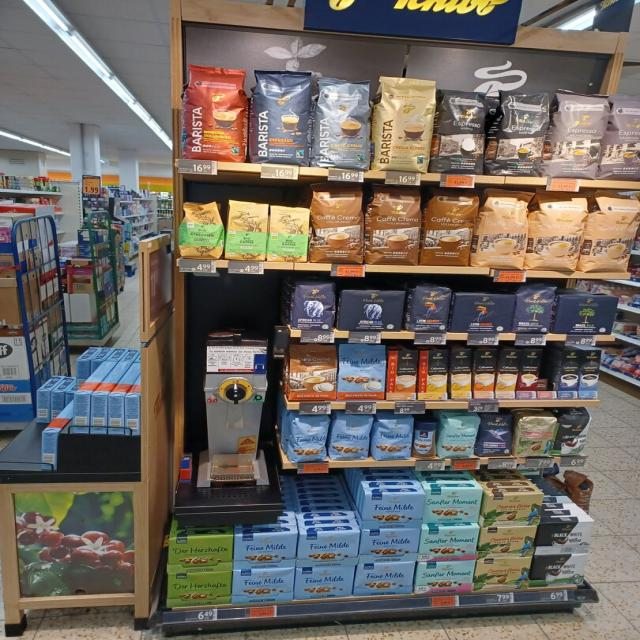AB Bohne: (292, 281, 336, 332)
AB Gemahlen: (340, 288, 408, 332)
Athiopien Bohne: (180, 201, 223, 259)
Athiopien Gemahlen: (225, 198, 268, 260), (270, 204, 310, 262)
BM Bohne: (516, 284, 556, 334)
BM Gemahlen: (556, 293, 620, 335)
BW Bohne: (554, 412, 594, 457)
BW Gemahlen: (536, 521, 596, 554), (531, 554, 589, 586)
Barista CB: (374, 75, 438, 171)
Barista CC: (316, 75, 371, 170)
Barista Espresso: (252, 69, 312, 165)
Barista Kolumbien: (186, 62, 248, 162)
C Fino Bohne: (480, 412, 514, 457)
CC Mild: (530, 185, 588, 271), (476, 186, 530, 270), (590, 190, 640, 273)
CC Vollmundig: (289, 344, 337, 401)
CC Vollmundig 36 Pads: (311, 183, 365, 263), (368, 184, 420, 266), (422, 190, 478, 266)
Colombia BB Bohne: (515, 413, 557, 458)
Colombia BB Gemahlen: (484, 494, 544, 526), (474, 559, 532, 592), (479, 526, 537, 558)
Espresso Kraftig: (494, 88, 550, 176), (437, 89, 487, 174)
Espresso M Art: (554, 88, 612, 178)
FM 36 Pads: (338, 344, 386, 399)
FM Bohne: (331, 414, 374, 460), (290, 414, 331, 462), (373, 416, 415, 461)
FM Gemahlen: (360, 491, 426, 529), (232, 568, 294, 604), (235, 534, 298, 568), (298, 532, 361, 566), (296, 566, 356, 600), (357, 562, 416, 596), (360, 529, 420, 562)
FM Instant: (414, 420, 436, 458)
Herzhatfe Mundig: (168, 536, 235, 572), (166, 572, 232, 606)
LG Bohne: (411, 283, 453, 333)
LG Gemahlen: (452, 293, 516, 333)
SM Bohne: (439, 416, 482, 458)
SM Gemahlen: (424, 486, 484, 524), (420, 527, 481, 562), (416, 562, 476, 594)
Simo CCMild: (418, 350, 449, 400)
Simo CCMild bigpack: (451, 349, 473, 399)
Simo CCVollmundig: (387, 350, 418, 400)
Simo CCVollmundig bigpack: (474, 348, 498, 399)
Simo Decaff: (495, 349, 523, 398)
Simo Es Caramel: (515, 348, 543, 398)
Simo Es Kraft: (558, 350, 584, 398)
Simo Es Vanilla: (578, 349, 603, 398)
